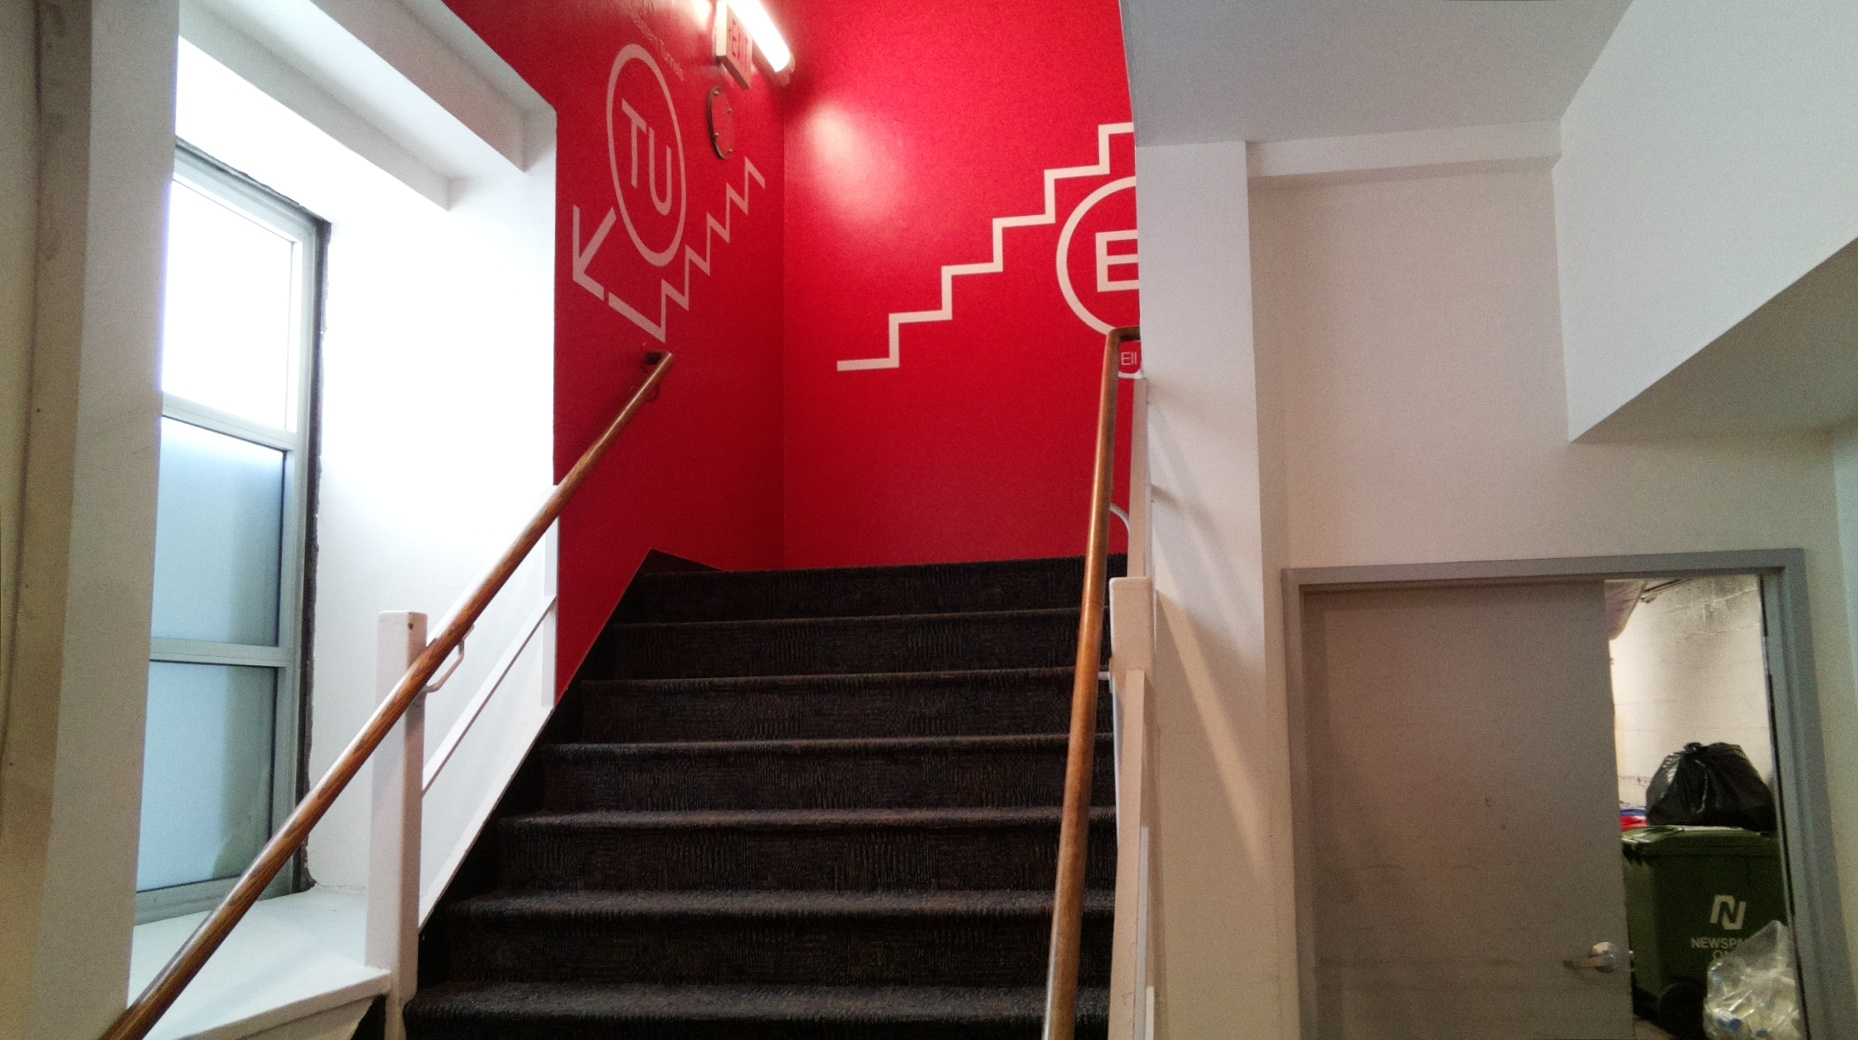exit sign: (710, 1, 758, 93)
